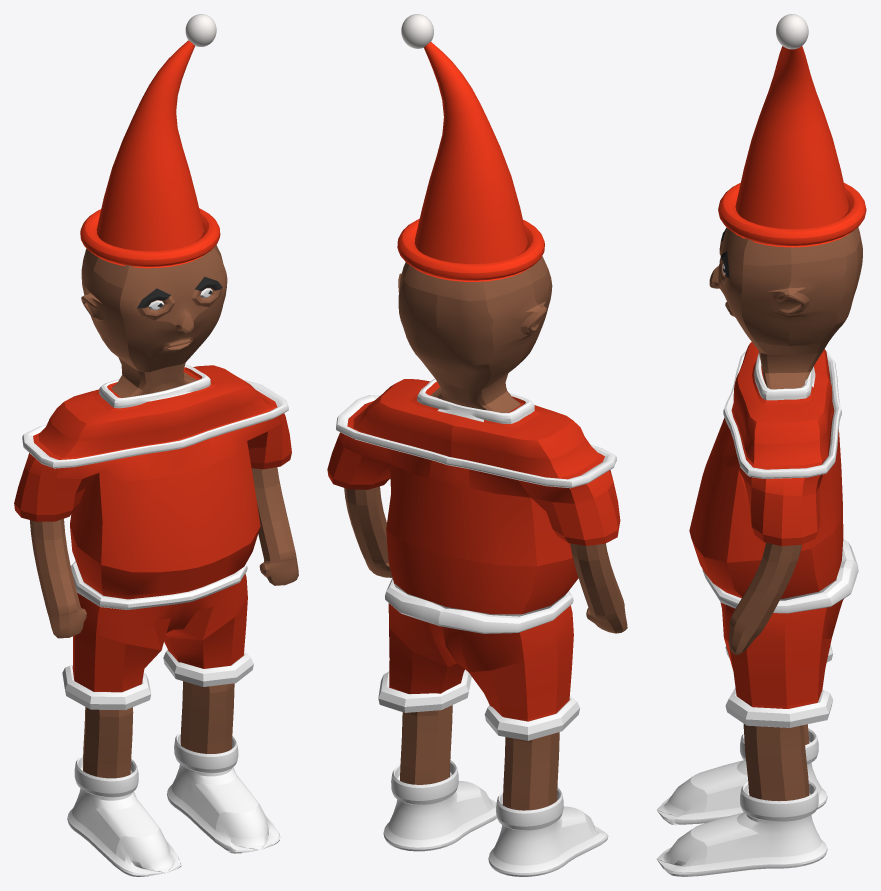
The model's file is santa_raw_model.glb.
3 renders of one model, left to right at view 1: azimuth 30°, elevation 25°; view 2: azimuth 150°, elevation 25°; view 3: azimuth 270°, elevation 25°, orthographic. The views are drawn at different scales.
Parts seen in each view (by area): view 1: Santa_N-Gon; view 2: Santa_N-Gon; view 3: Santa_N-Gon.
Part boxes in pixels (<box>): Santa_N-Gon: <box>14,14,298,876</box>; Santa_N-Gon: <box>327,14,627,876</box>; Santa_N-Gon: <box>656,14,866,876</box>.
Size of the model in its own units: 1.42 by 3.97 by 0.8906.
1 material, 1 textured.
